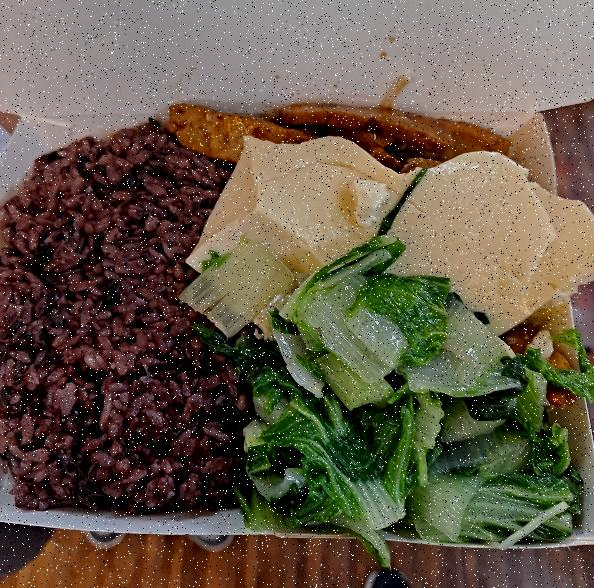big grilled chicken leg: (0, 83, 594, 564)
braised fish: (0, 125, 260, 525)
braised fish fillet: (214, 240, 592, 549), (183, 135, 590, 329), (174, 96, 531, 174)
